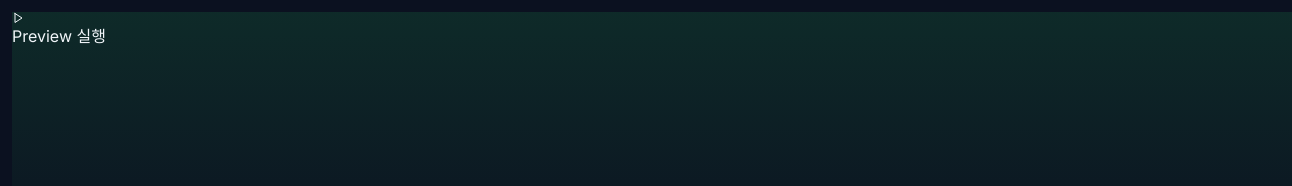
Test: PreviewRunCard › (#7 hint) no_scaffold는 hint 표시 안 함(상태 안내만)
The width and height of the screenshot is (1292, 186).
Click the button with test id "mission-preview-run-cta-mission_no_hint". click: (59, 30)
box: [12,12,106,48]
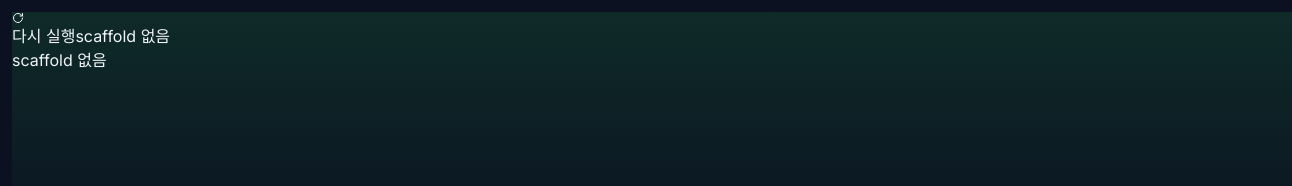
expect the text with test id "mission-preview-run-error-mission_no_hint" is shown: met, box [12,50,107,70]
